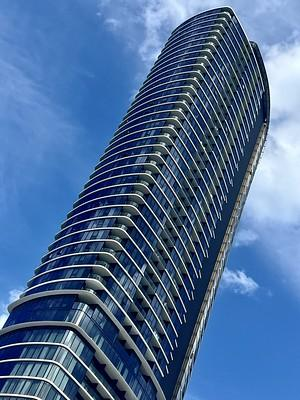building: (2, 5, 272, 399)
